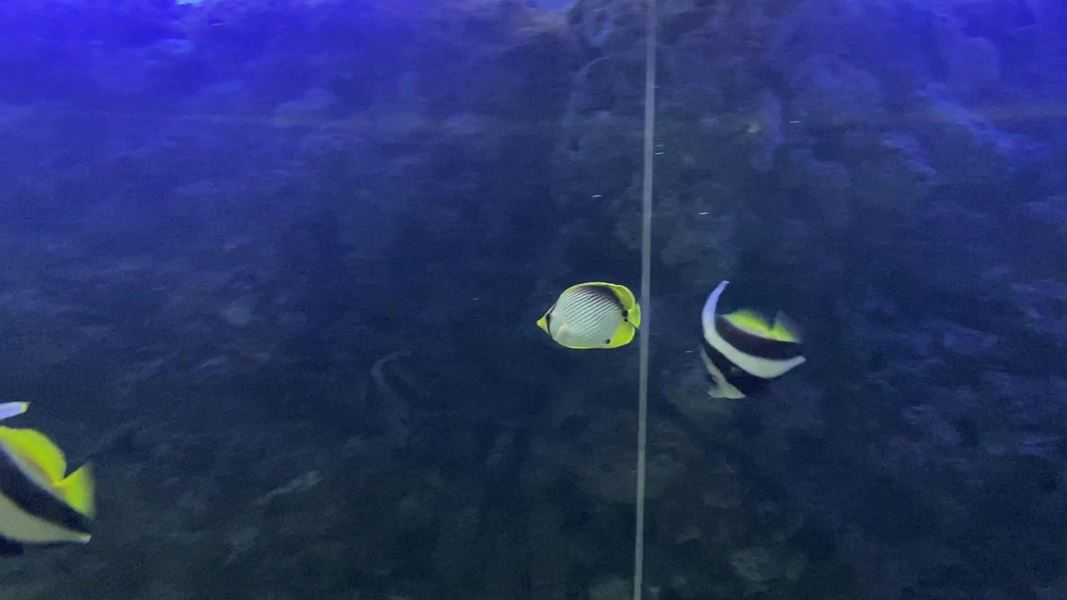Black-backed butterflyfish: (529, 276, 663, 358)
